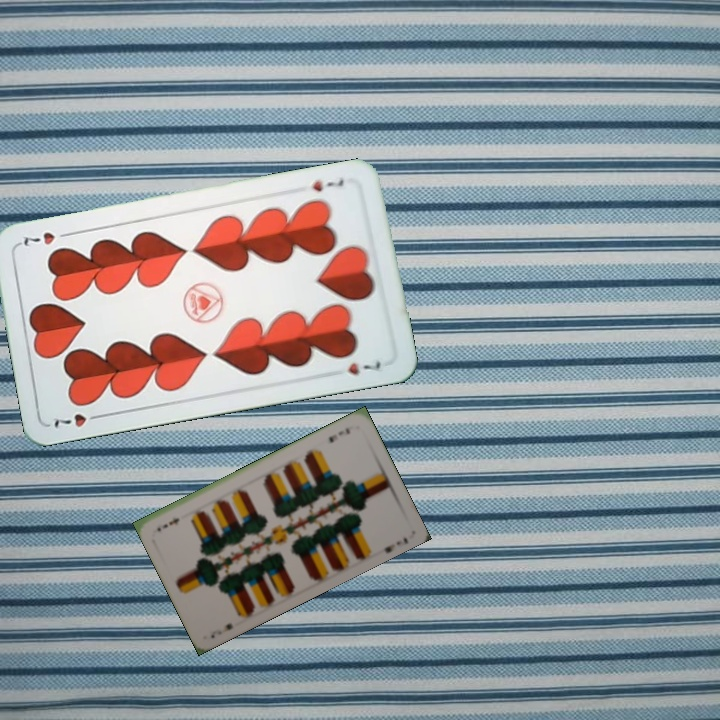E7: (206, 619, 235, 641), (325, 424, 353, 445)
H7: (49, 409, 106, 430), (308, 175, 347, 195)
